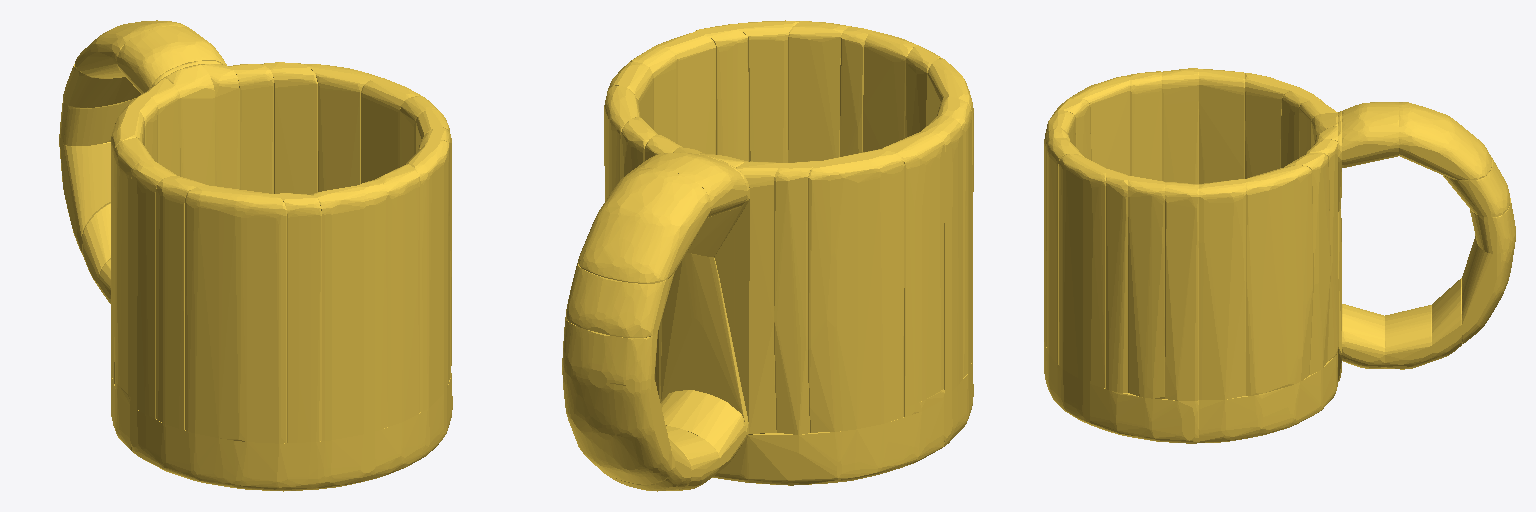
URDF robot description (441.urdf):
<?xml version="1.0" ?>
<robot name="441.urdf">
	<link name="baseLink">
		<inertial>
			<origin rpy="0 0 0" xyz="0 0 0"/>
				<mass value="0.1"/>
				<inertia ixx="6e-5" ixy="0" ixz="0" iyy="6e-5" iyz="0" izz="6e-5"/>
		</inertial>
		<visual>
			<origin rpy="0 0 0" xyz="0 0 0"/>
			<geometry>
				<mesh filename="32_decom_wt.obj" scale="0.98 0.98 1.08"/>
			</geometry>
			<material name="yellow">
				<color rgba="0.98 0.84 0.35 1"/>
			</material>
		</visual>
		<collision>
			<origin rpy="0 0 0" xyz="0 0 0"/>
			<geometry>
				<mesh filename="32_decom_wt.obj" scale="0.98 0.98 1.08"/>
			</geometry>
		</collision>
	</link>
</robot>

--- What the picture shows (computed from the rendered views, not written in the file) ---
Views: 3 orthographic renders of the robot side by side, from view 1: azimuth 30°, elevation 25°; view 2: azimuth 150°, elevation 25°; view 3: azimuth 270°, elevation 25°.
Robot: 441.urdf — 1 links, 0 joints (none); root link baseLink; default pose: all joints at 0.
Visible links, largest first — view 1: baseLink; view 2: baseLink; view 3: baseLink.
Link boxes in pixels (box(x1,y1,x2,y2)): baseLink: box(59, 20, 452, 491); baseLink: box(562, 20, 973, 491); baseLink: box(1044, 68, 1515, 443).
Size in the robot's own frame: 0.0934 by 0.1473 by 0.094 metres.
1 mesh visuals loaded from 1 distinct referenced files (1 OBJ).